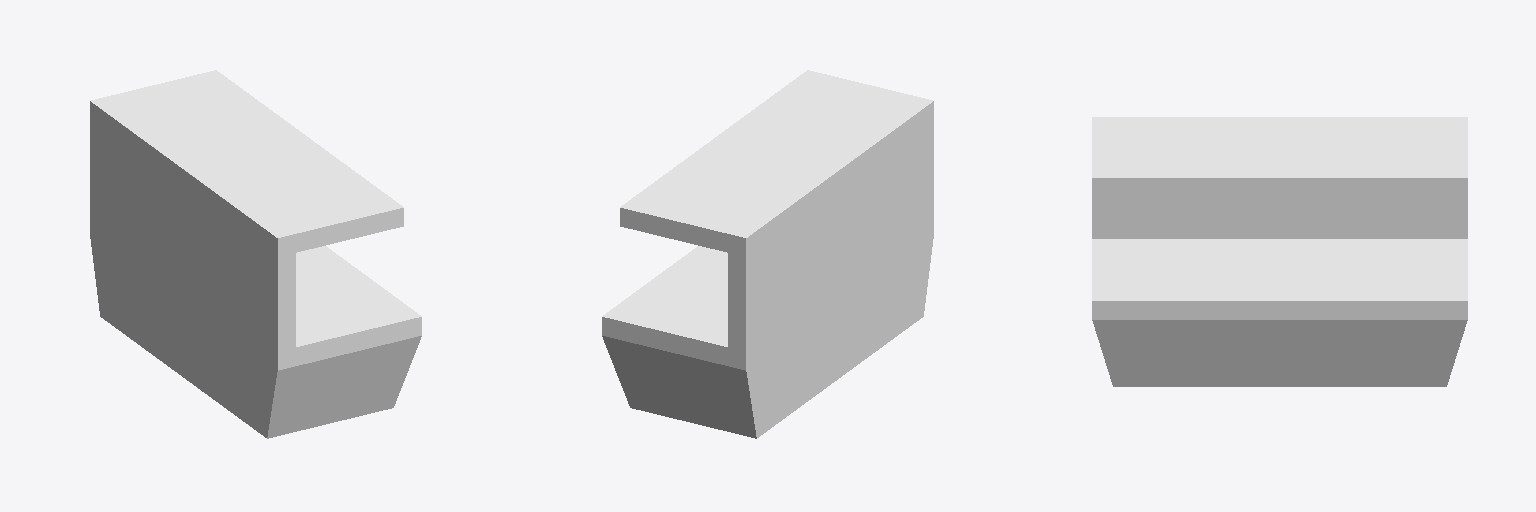
Rendered from smallShelfObj.obj.
3 views of the same model, side by side, from view 1: azimuth 30°, elevation 25°; view 2: azimuth 150°, elevation 25°; view 3: azimuth 270°, elevation 25° (orthographic).
Parts seen in each view (by area): view 1: smallShelfObj; view 2: smallShelfObj; view 3: smallShelfObj.
Part boxes in pixels (x1,y1,x2,y2): smallShelfObj: (90, 70, 421, 438); smallShelfObj: (602, 70, 933, 438); smallShelfObj: (1092, 117, 1467, 386).
Bounding box in the file's own units: 2 × 2.75 × 4.5.